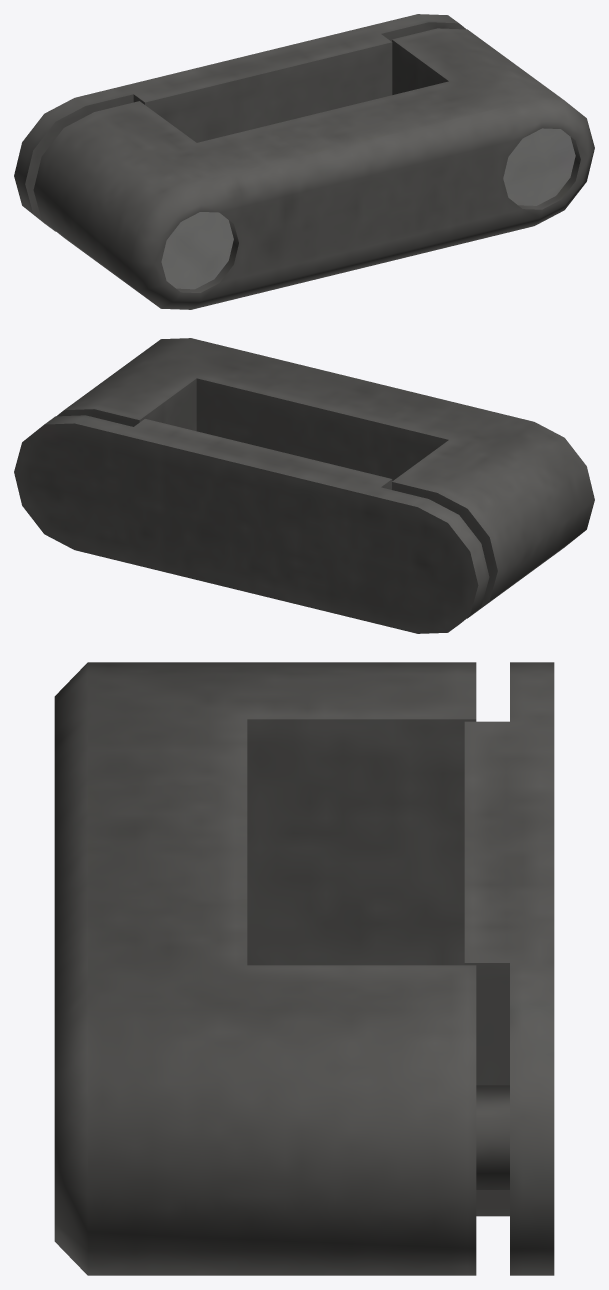
Rendered from cable_double_mount.glb.
The picture shows the model from 3 angles, top to bottom: view 1: azimuth 30°, elevation 25°; view 2: azimuth 150°, elevation 25°; view 3: azimuth 270°, elevation 25°; orthographic projection. The views are drawn at different scales.
Visible parts, largest first — view 1: cable_double_mount.001; view 2: cable_double_mount.001; view 3: cable_double_mount.001.
Part boxes in pixels (x1,y1,x2,y2): cable_double_mount.001: (14,14,594,309); cable_double_mount.001: (14,338,594,633); cable_double_mount.001: (54,662,554,1275).
Size of the model in its own units: 0.0556 by 0.0145 by 0.0259.
Materials: 1 (1 with a texture image).
